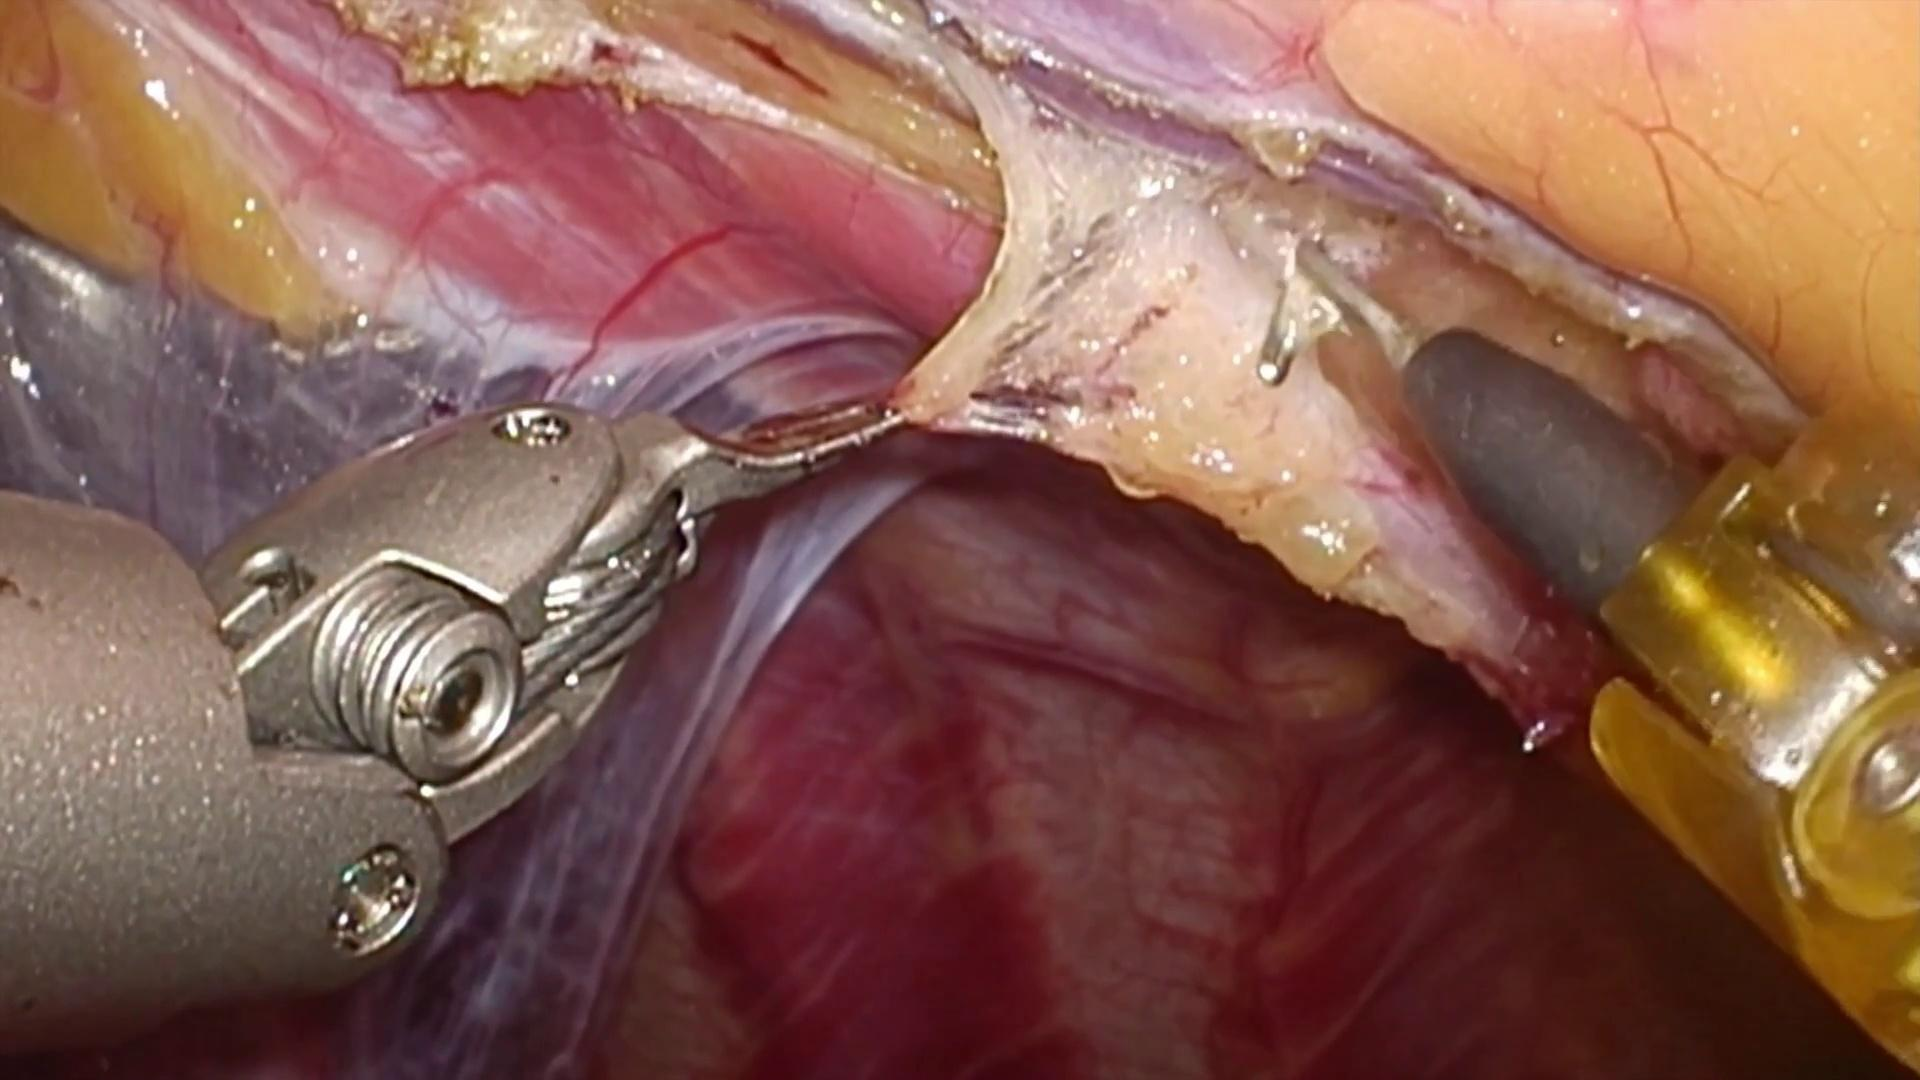Cautery_Spatula: (1290, 227, 1705, 629)
Debakey: (616, 367, 930, 527)
